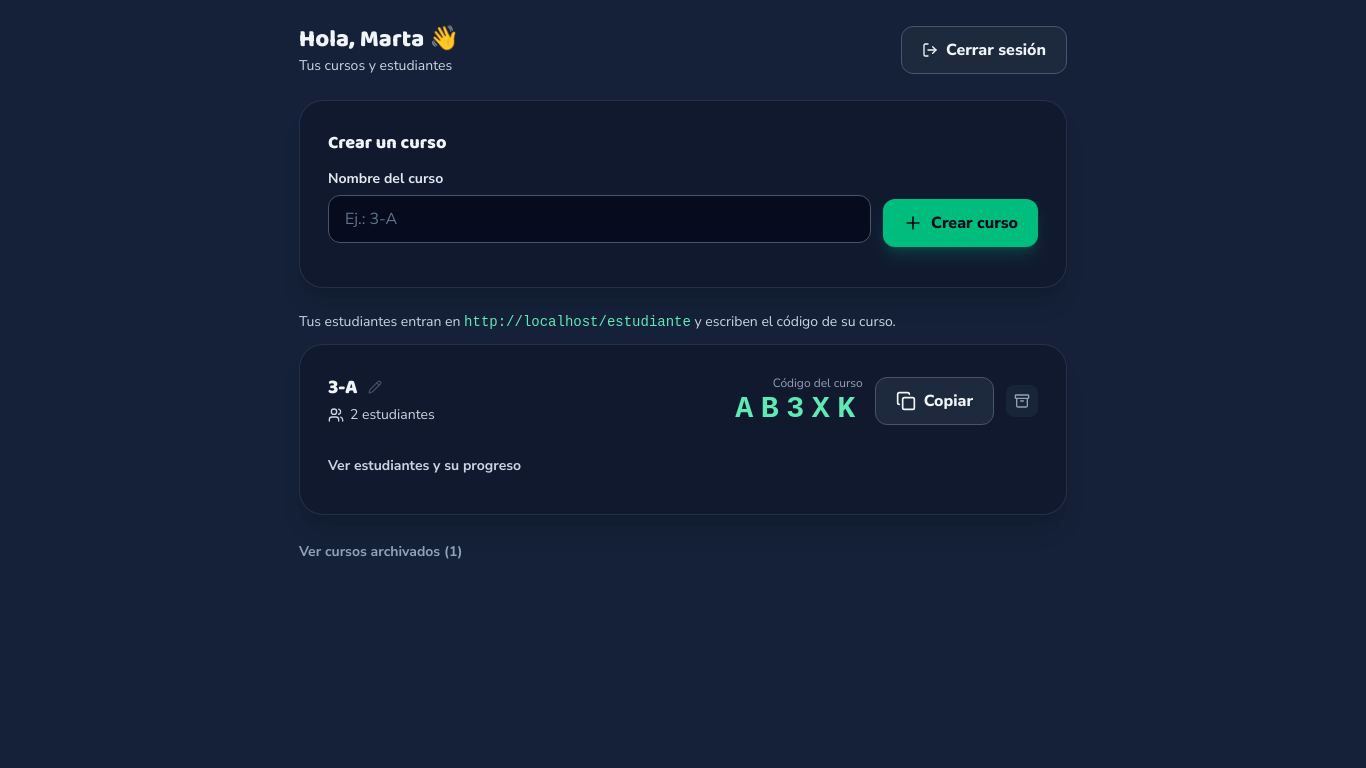
it: TeacherPanel · detalle del estudiante › sin la migración 0010 (campos ausentes): se comporta exactamente como antes
Check: the text "Tus cursos y estudiantes" is shown, box [299,56,459,76]
Click the heading "Ver estudiantes y su progreso" at (425, 465), box [328,456,521,475]
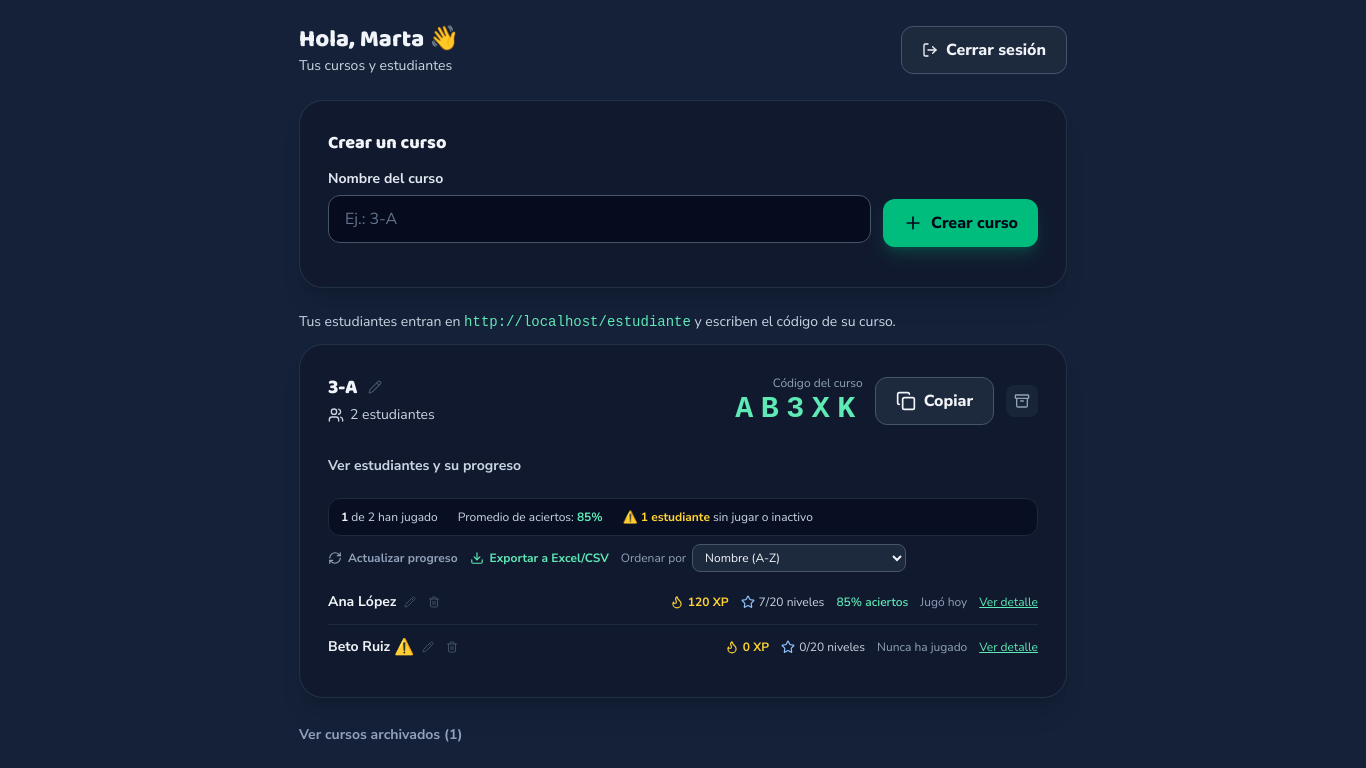
Click the text "120 XP" at (699, 602), box [670,594,729,610]
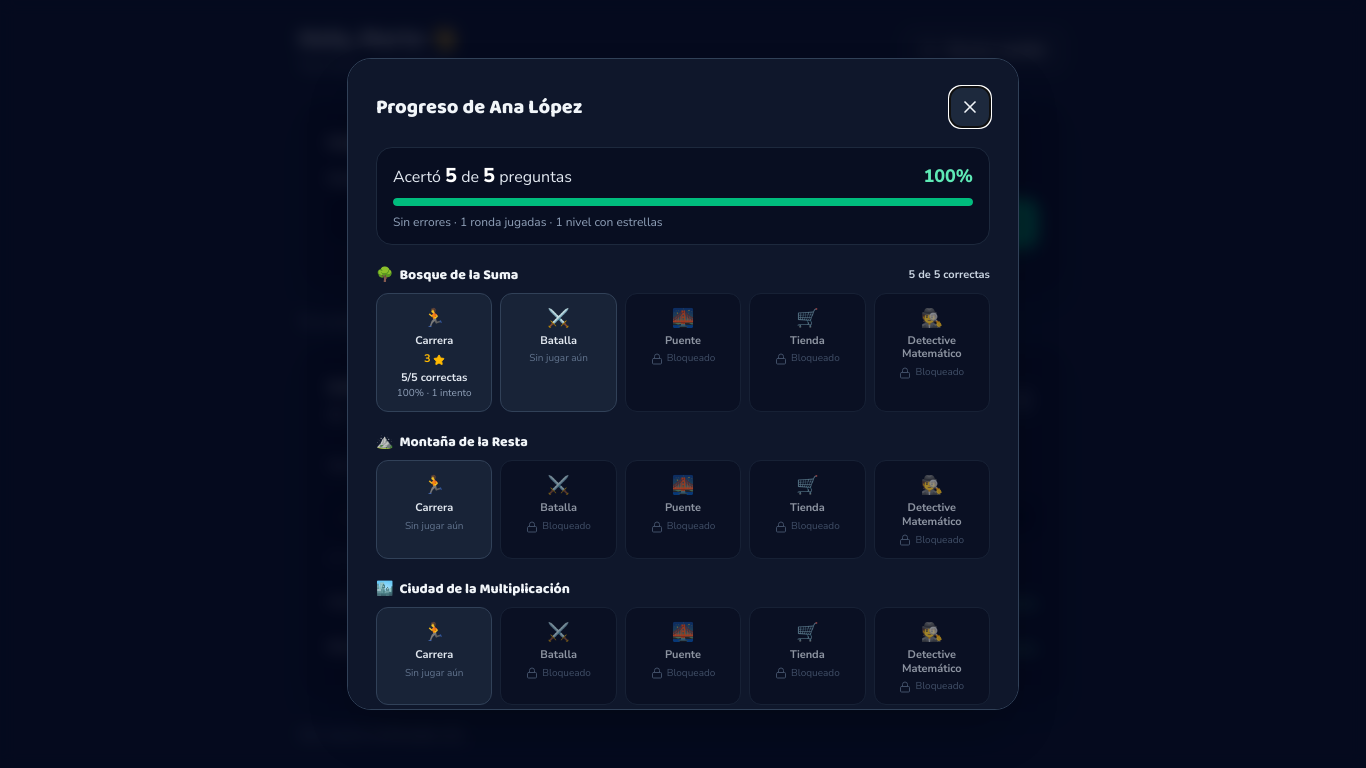
Check: the text "Bosque de la Suma" is shown, box [400,265,518,285]
Check: the text "Bloqueado" is shown 15 times
